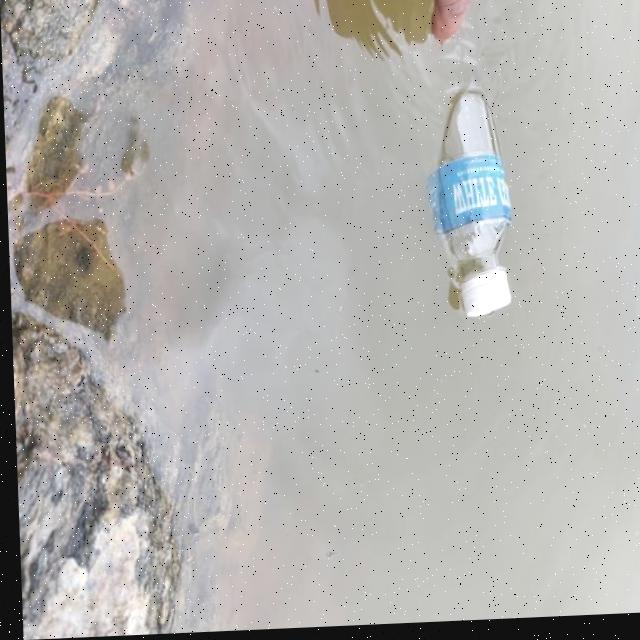waterbottle: (391, 17, 521, 336)
